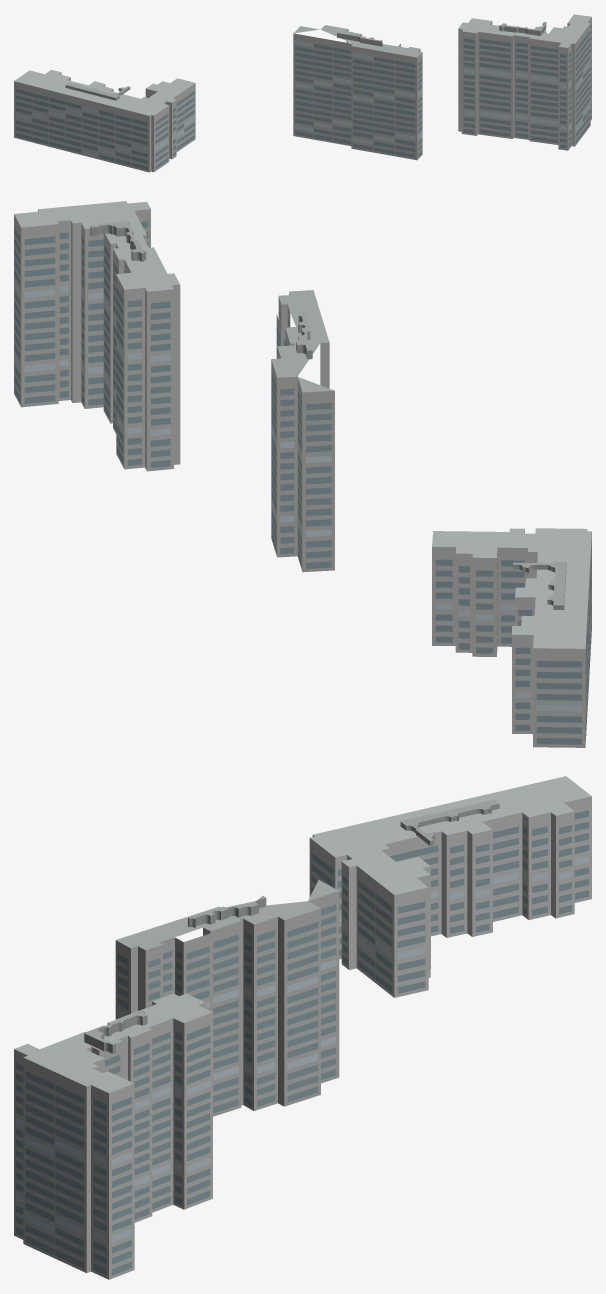
Rendered from apt-a10025193.glb.
The picture shows the model from 3 angles, top to bottom: view 1: azimuth 30°, elevation 25°; view 2: azimuth 150°, elevation 25°; view 3: azimuth 270°, elevation 25°; orthographic projection. The views are drawn at different scales.
Parts seen in each view (by area): view 1: apt-a10025193; view 2: apt-a10025193; view 3: apt-a10025193.
Boxes of the visible parts, box(x1,y1,x2,y2) form: apt-a10025193: box(14, 14, 591, 172); apt-a10025193: box(14, 201, 591, 747); apt-a10025193: box(14, 776, 591, 1279).
Bounding box in the file's own units: 216 × 49 × 131.
